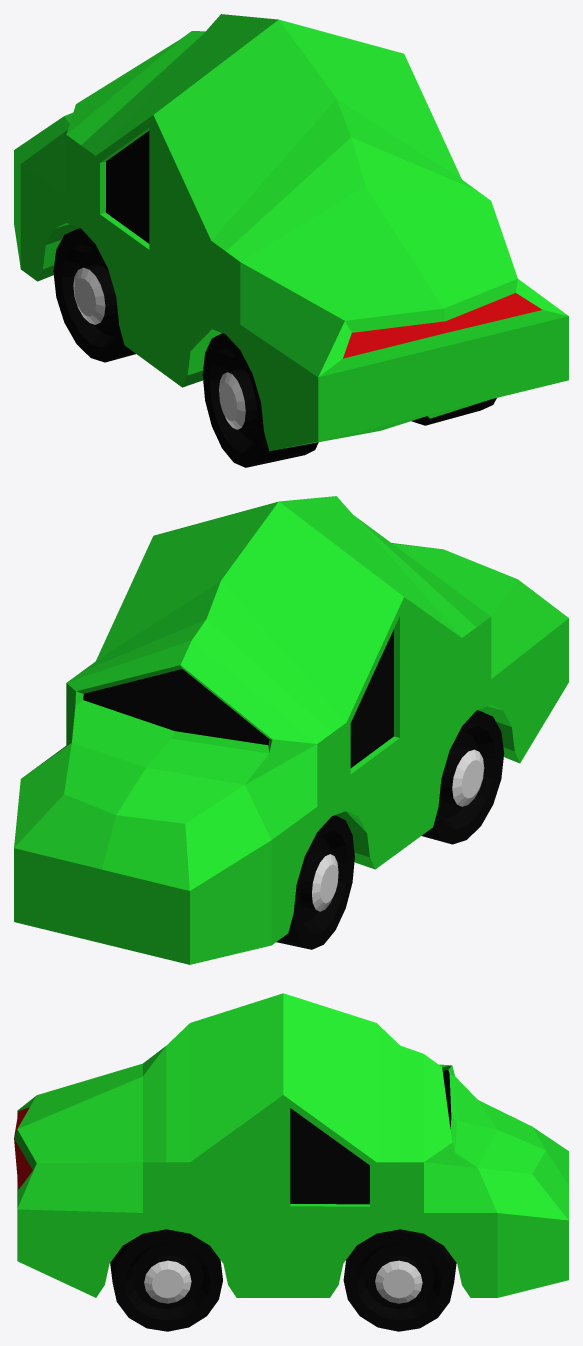
File: FirstCar.glb
The picture shows the model from 3 angles, top to bottom: view 1: azimuth 30°, elevation 25°; view 2: azimuth 150°, elevation 25°; view 3: azimuth 270°, elevation 25°; orthographic projection. The views are drawn at different scales.
Parts seen in each view (by area): view 1: Car, LT, LB, RT; view 2: Car, LT, LB; view 3: Car, RB, RT.
Part boxes in pixels (x1=…): Car: x1=14, y1=14, x2=568, y2=451; LT: x1=202, y1=333, x2=318, y2=467; LB: x1=53, y1=228, x2=135, y2=362; RT: x1=411, y1=398, x2=496, y2=425; Car: x1=14, y1=496, x2=568, y2=964; LT: x1=421, y1=710, x2=504, y2=844; LB: x1=276, y1=815, x2=354, y2=949; Car: x1=14, y1=993, x2=568, y2=1297; RB: x1=343, y1=1229, x2=456, y2=1331; RT: x1=110, y1=1229, x2=222, y2=1331.
Size of the model in its own units: 2 by 2.76 by 4.75.
